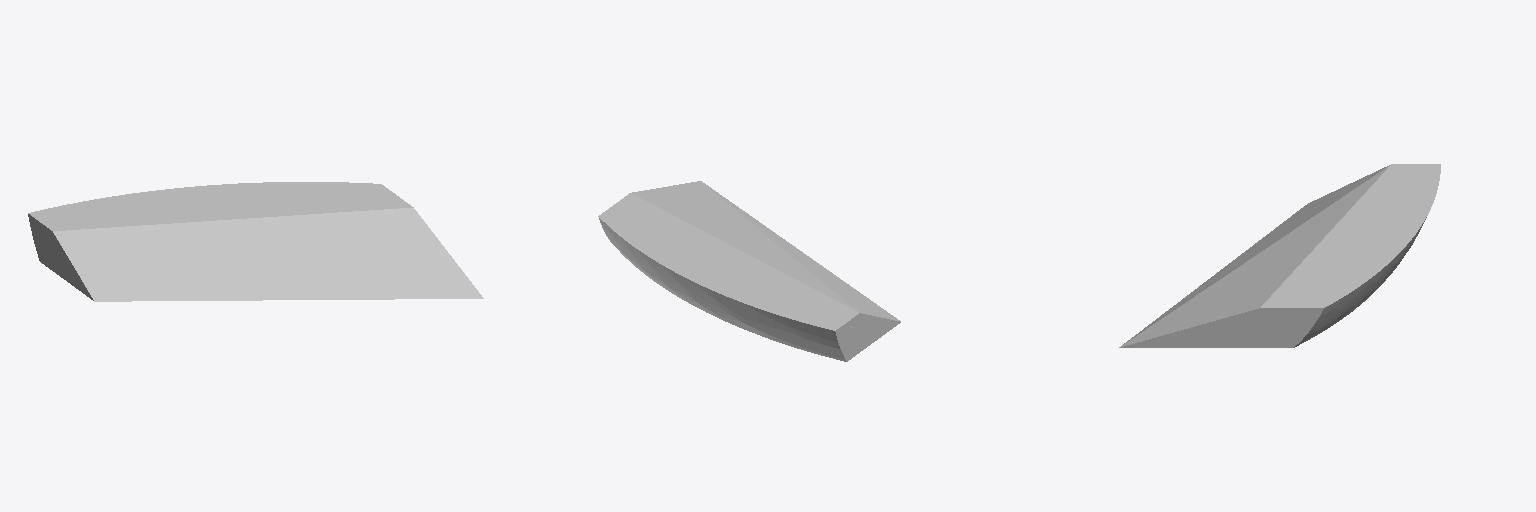
File: skillet_collision_19.obj
3 views of the same model, side by side, from view 1: azimuth 30°, elevation 25°; view 2: azimuth 150°, elevation 25°; view 3: azimuth 270°, elevation 25° (orthographic).
Size of the model in its own units: 0.0564 by 0.0072 by 0.0533.